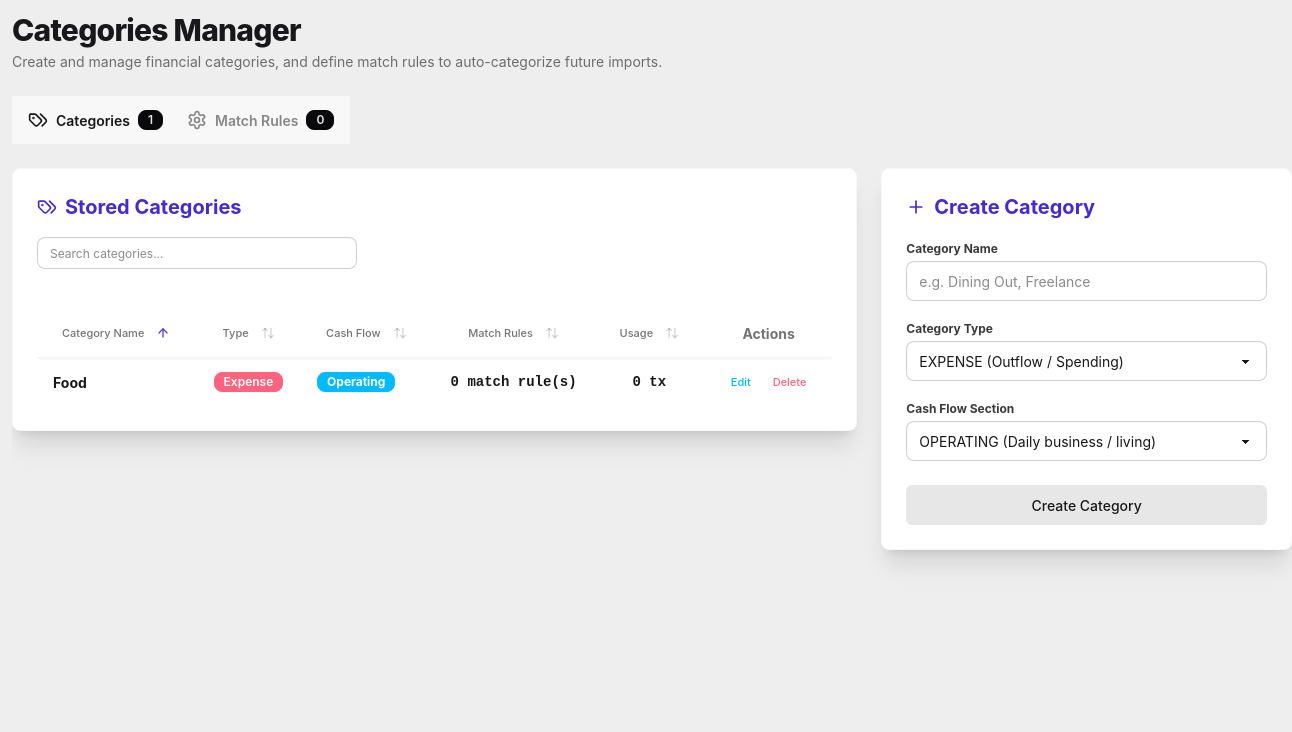
it: CategoriesClient — categories list › clears search when clicking X button
Type "Food" into the field with placeholder "Search categories..." at (197, 253), box x1=37 y1=237 x2=357 y2=269
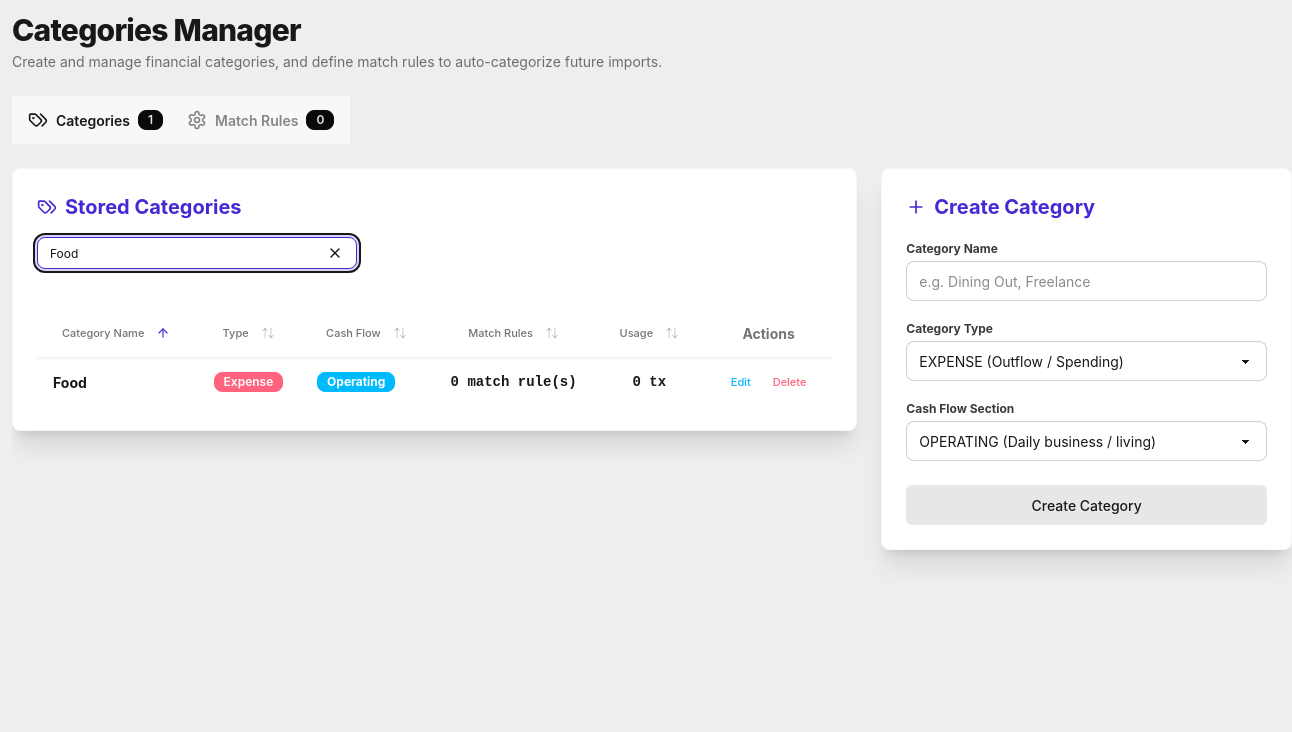
Click the button named "Clear search query" at (335, 253), box x1=323 y1=241 x2=347 y2=265
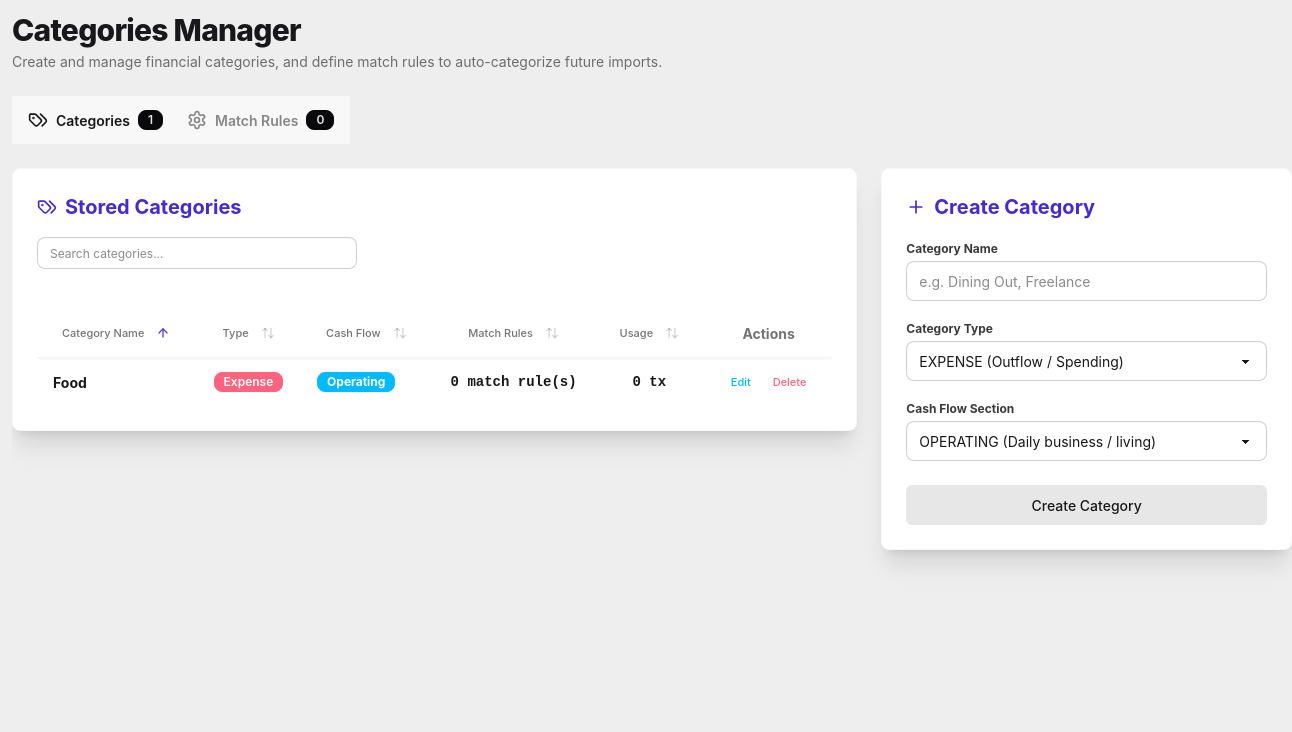
Expected: the field with placeholder "Search categories..." is empty, x1=37 y1=237 x2=357 y2=269
